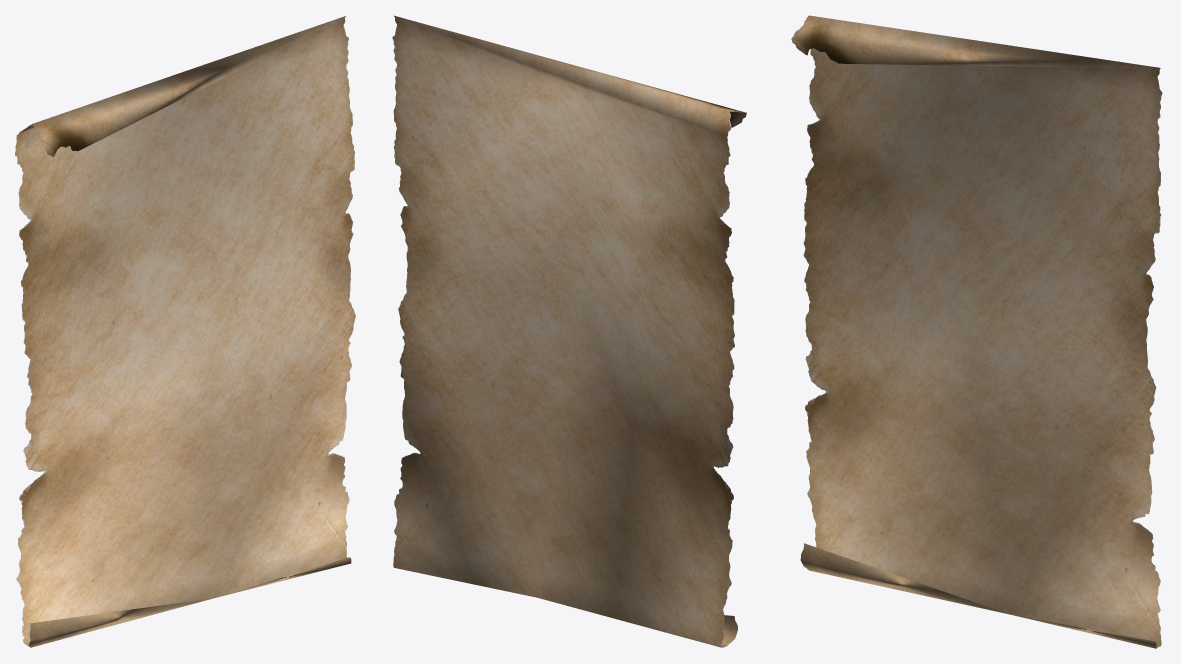
The model's file is Obj_pergamino.fbx.
The picture shows the model from 3 angles, left to right: view 1: azimuth 30°, elevation 25°; view 2: azimuth 150°, elevation 25°; view 3: azimuth 330°, elevation 25°; orthographic projection. The views are drawn at different scales.
Parts seen in each view (by area): view 1: Obj_pergamino; view 2: Obj_pergamino; view 3: Obj_pergamino.
Boxes of the visible parts, left/top/right/bottom form: Obj_pergamino: left=15, top=16, right=355, bottom=647; Obj_pergamino: left=392, top=15, right=746, bottom=647; Obj_pergamino: left=791, top=15, right=1162, bottom=648.
Bounding box in the file's own units: 27.72 × 42.98 × 3.5.
